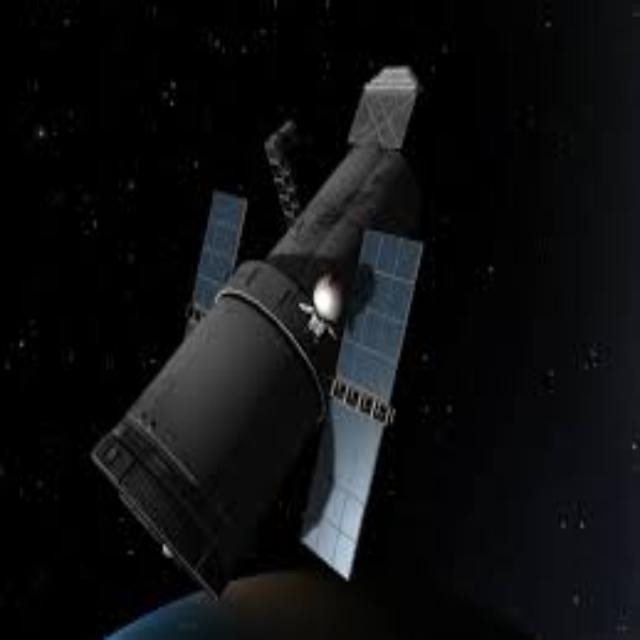sat: (85, 56, 433, 606)
